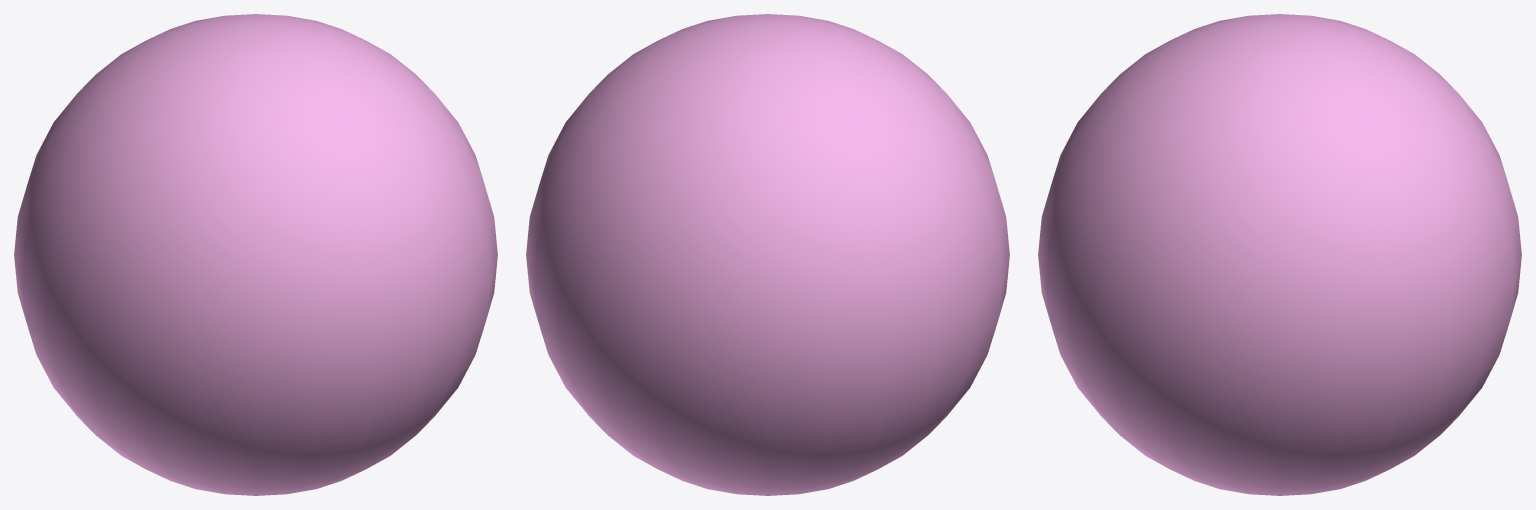
The model's file is nucleolus.glb.
The picture shows the model from 3 angles, left to right: view 1: azimuth 30°, elevation 25°; view 2: azimuth 150°, elevation 25°; view 3: azimuth 270°, elevation 25°; orthographic projection.
Parts seen in each view (by area): view 1: Nucleolus; view 2: Nucleolus; view 3: Nucleolus.
Part boxes in pixels (x1,y1,x2,y2): Nucleolus: (14, 14, 497, 495); Nucleolus: (526, 14, 1009, 495); Nucleolus: (1038, 14, 1521, 495).
Bounding box in the file's own units: 0.44 × 0.44 × 0.44.
